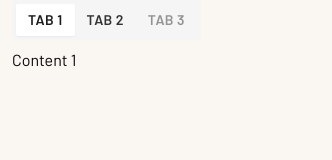
Test: Tabs Components › Tab Switching › should switch content when clicking different tabs
Expected: the text "Content 1" is shown, [12,50,76,69]
Click the tab "Tab 2" at {"x": 105, "y": 20}, box [74,4,136,36]
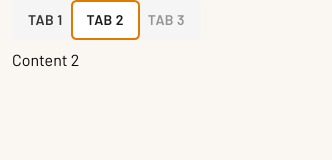
Result: the text "Content 2" is shown at [12,50,79,69]
Click the tab "Tab 1" at {"x": 45, "y": 20}, box [16,4,74,36]
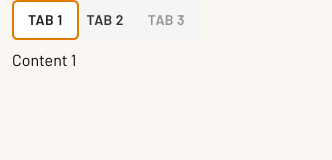
Result: the text "Content 1" is shown at [12,50,76,69]
